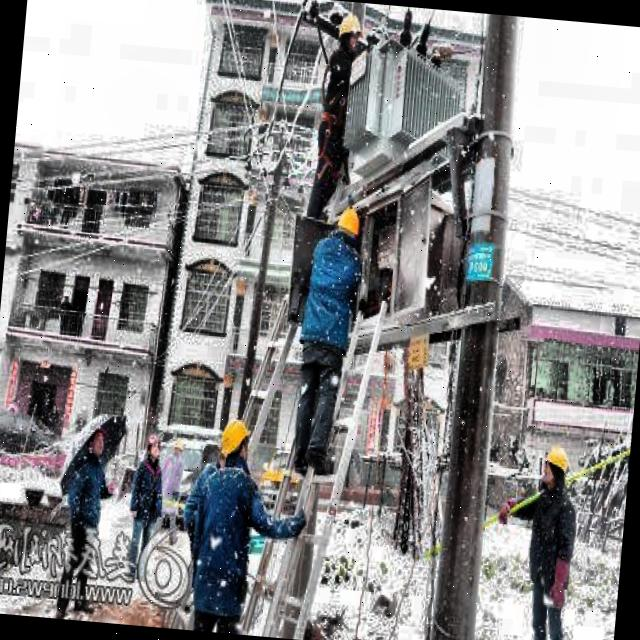helmet: (216, 413, 254, 472), (536, 438, 570, 491), (333, 10, 367, 55), (332, 201, 364, 248), (144, 431, 165, 462)
